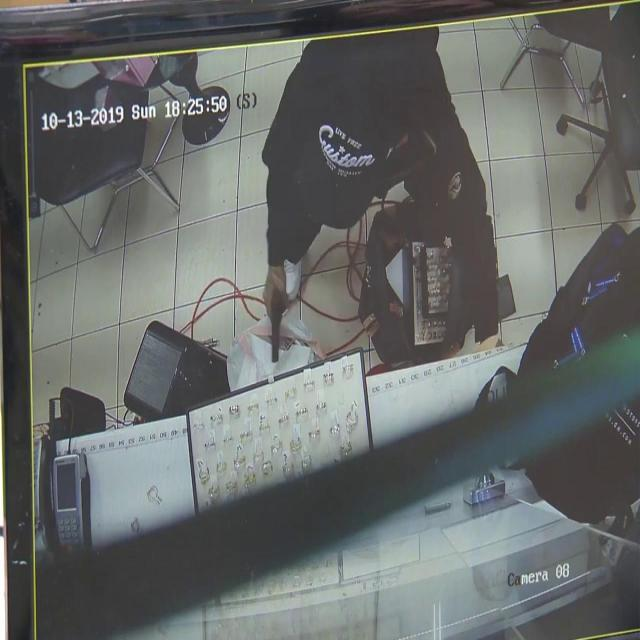pistol: (263, 274, 287, 364)
